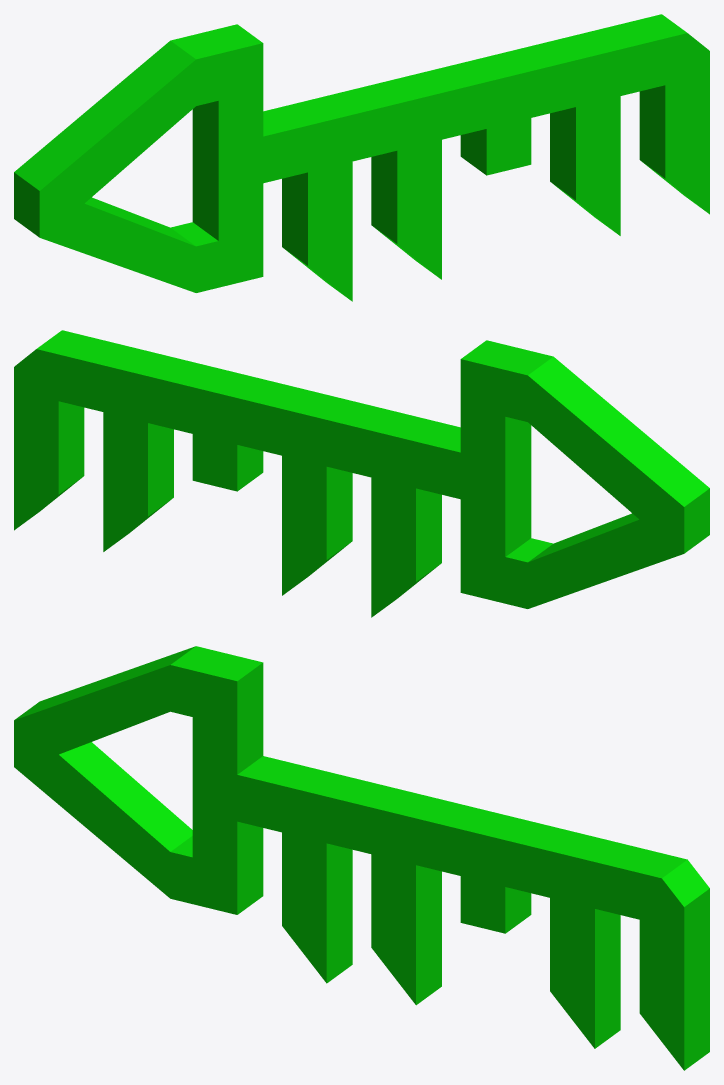
Rendered from Items.fbx_Key_7.fbx.
3 views of the same model, one above another, from view 1: azimuth 30°, elevation 25°; view 2: azimuth 150°, elevation 25°; view 3: azimuth 330°, elevation 25° (orthographic).
Visible parts, largest first — view 1: Key 7; view 2: Key 7; view 3: Key 7.
Part boxes in pixels (x1,y1,x2,y2): Key 7: (14, 14, 709, 301); Key 7: (14, 330, 709, 617); Key 7: (14, 646, 709, 1070).
Size of the model in its own units: 0.3 by 0.12 by 0.02.
